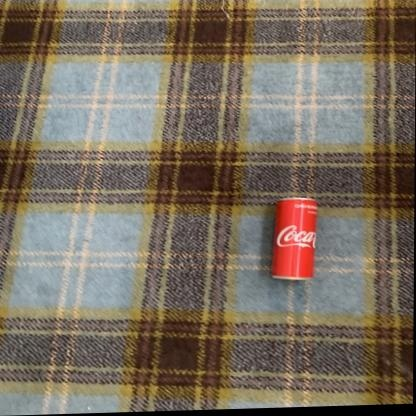trash: (272, 198, 316, 279)
